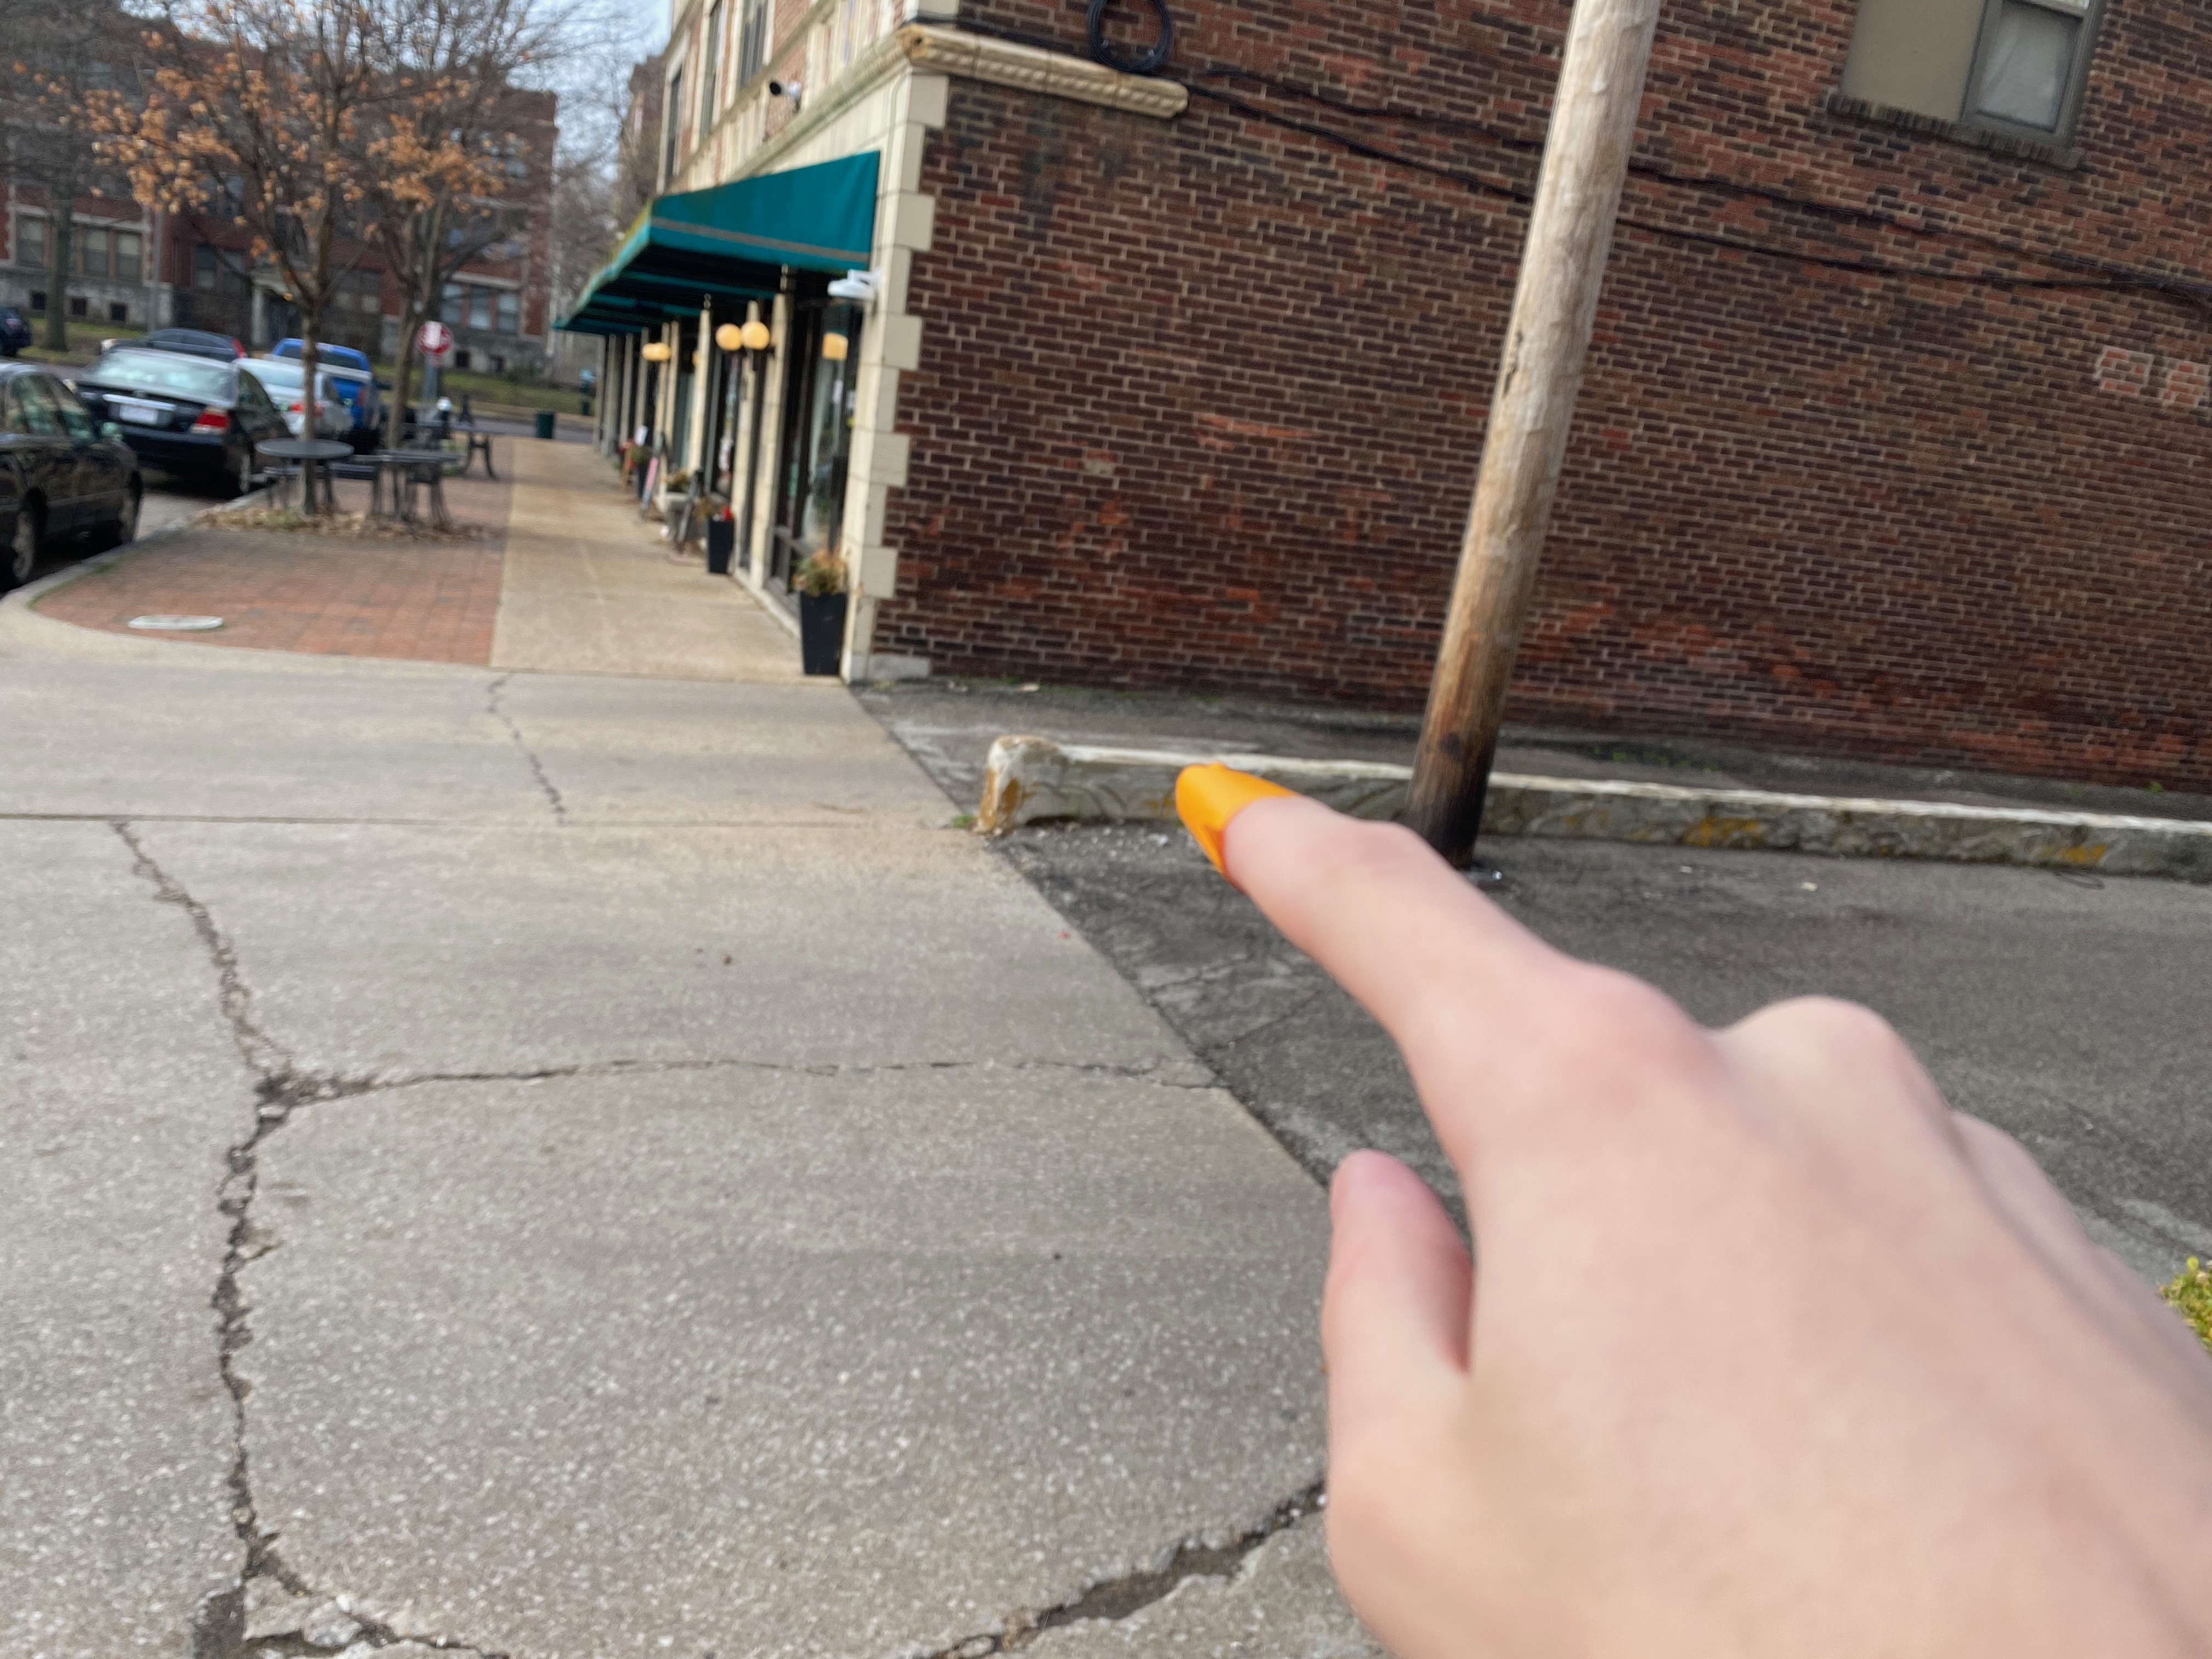fingertip: (1115, 741, 1341, 884)
